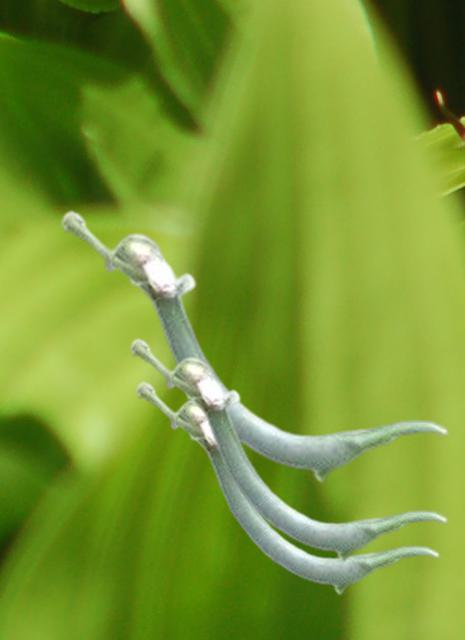french_bean: (60, 209, 448, 482), (129, 337, 447, 561), (135, 380, 439, 594)
